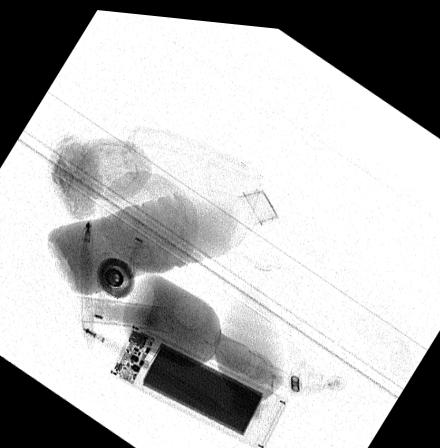Powerbank: (105, 318, 288, 443)
